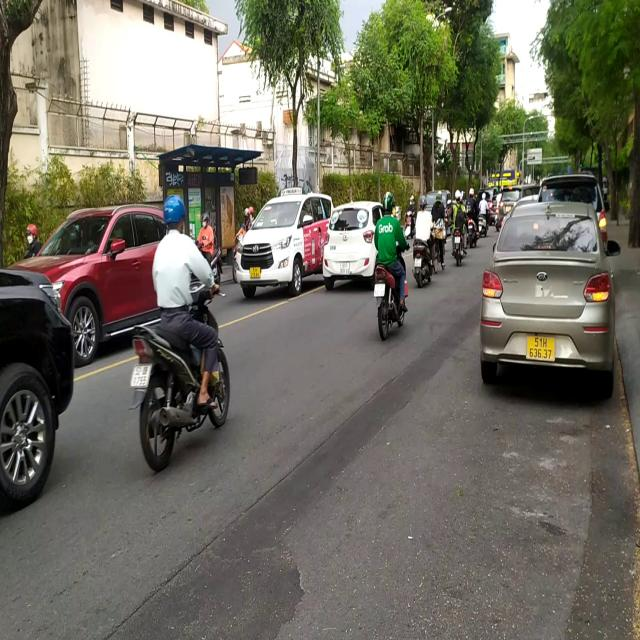bien_vang: (526, 327, 556, 362)
